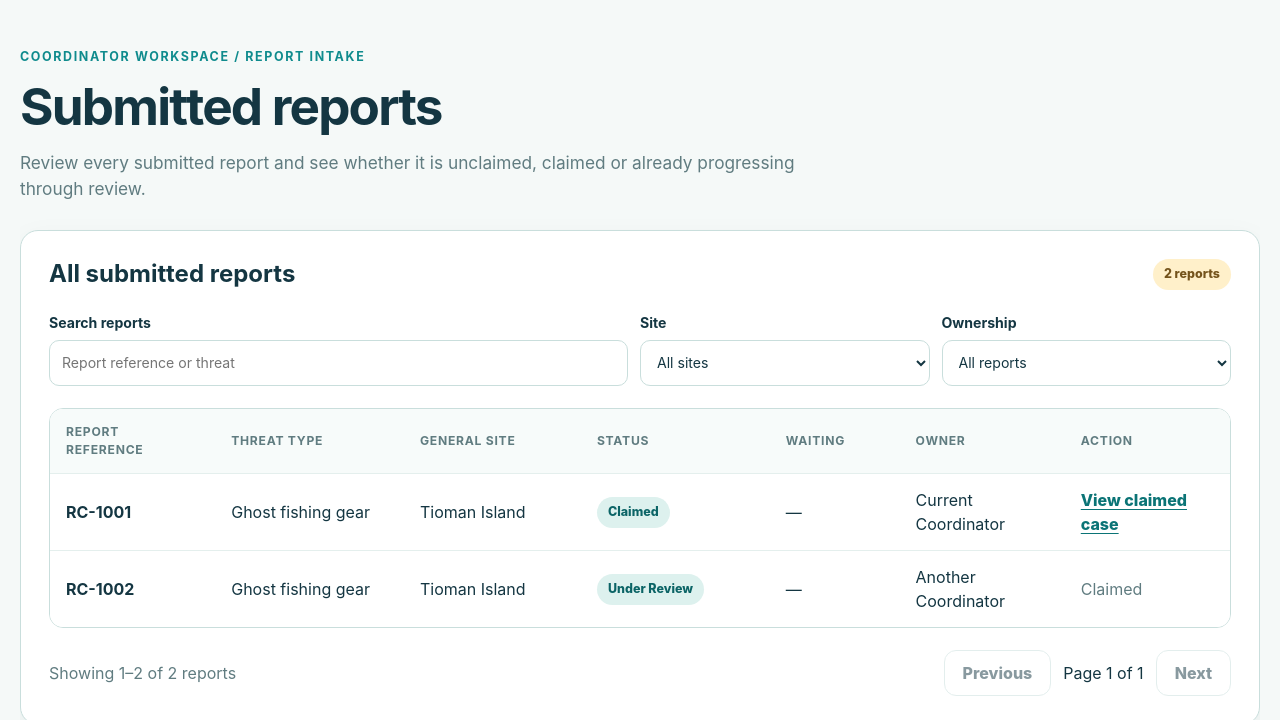
it: Coordinator report queue › renders claimed reports and lets the current owner reopen their case
The image size is (1280, 720).
Expected: the text "Another Coordinator" is shown, 900,551 -> 1065,627
Expected: the text "Under Review" is shown, 597,574 -> 704,604
Select "Claimed by me" in the dropdown labelled "Ownership" at x=1086, y=363, box 942,340 -> 1231,386
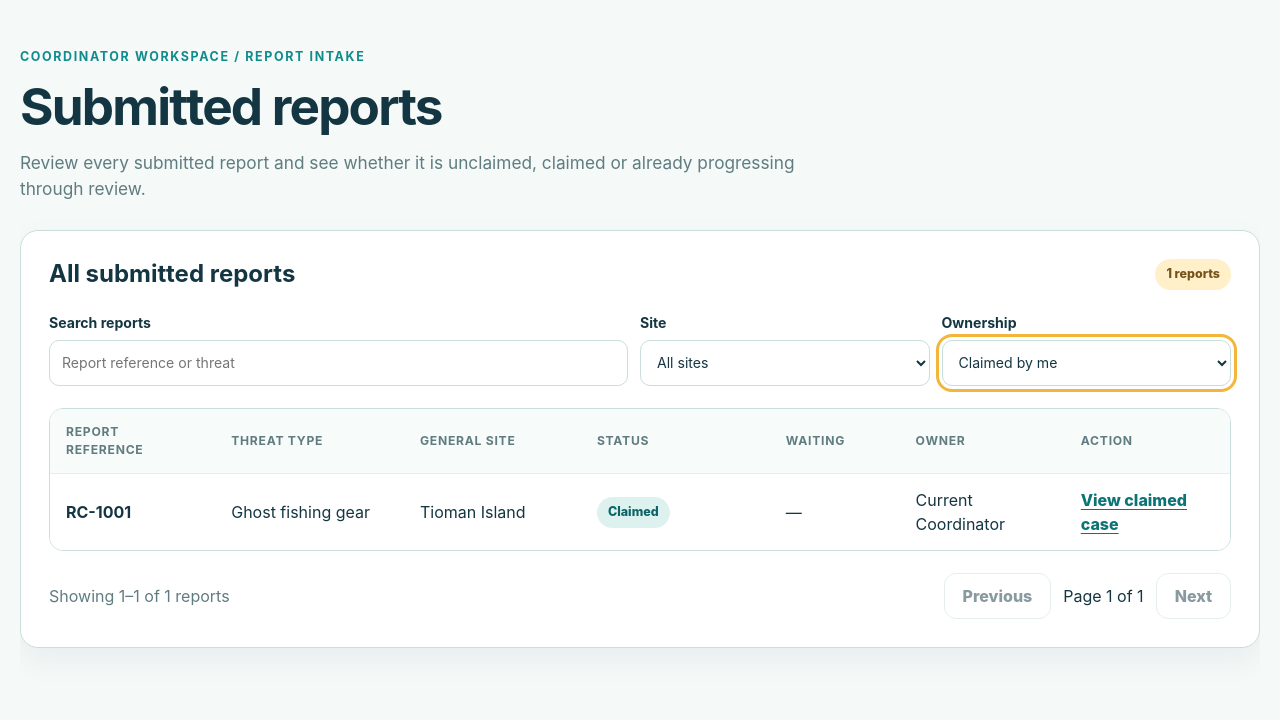
Expected: the link named "View claimed case RC-1001" is shown, 1081,490 -> 1187,534
Result: the text "Another Coordinator" is gone
